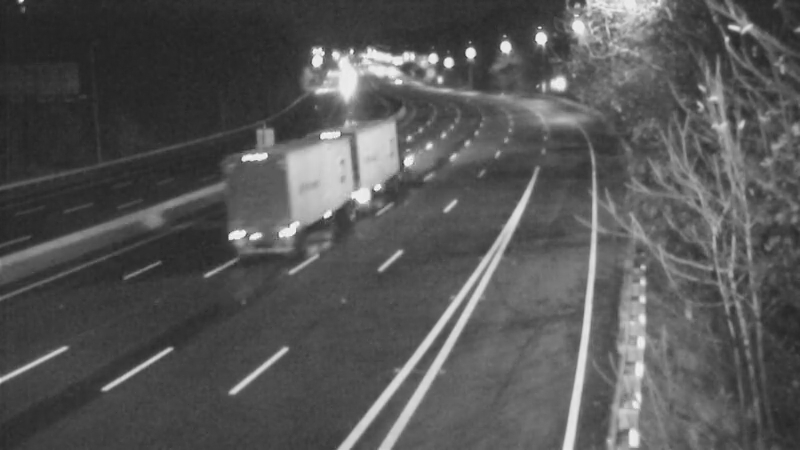vehicle: (290, 122, 370, 202), (372, 56, 422, 106)
